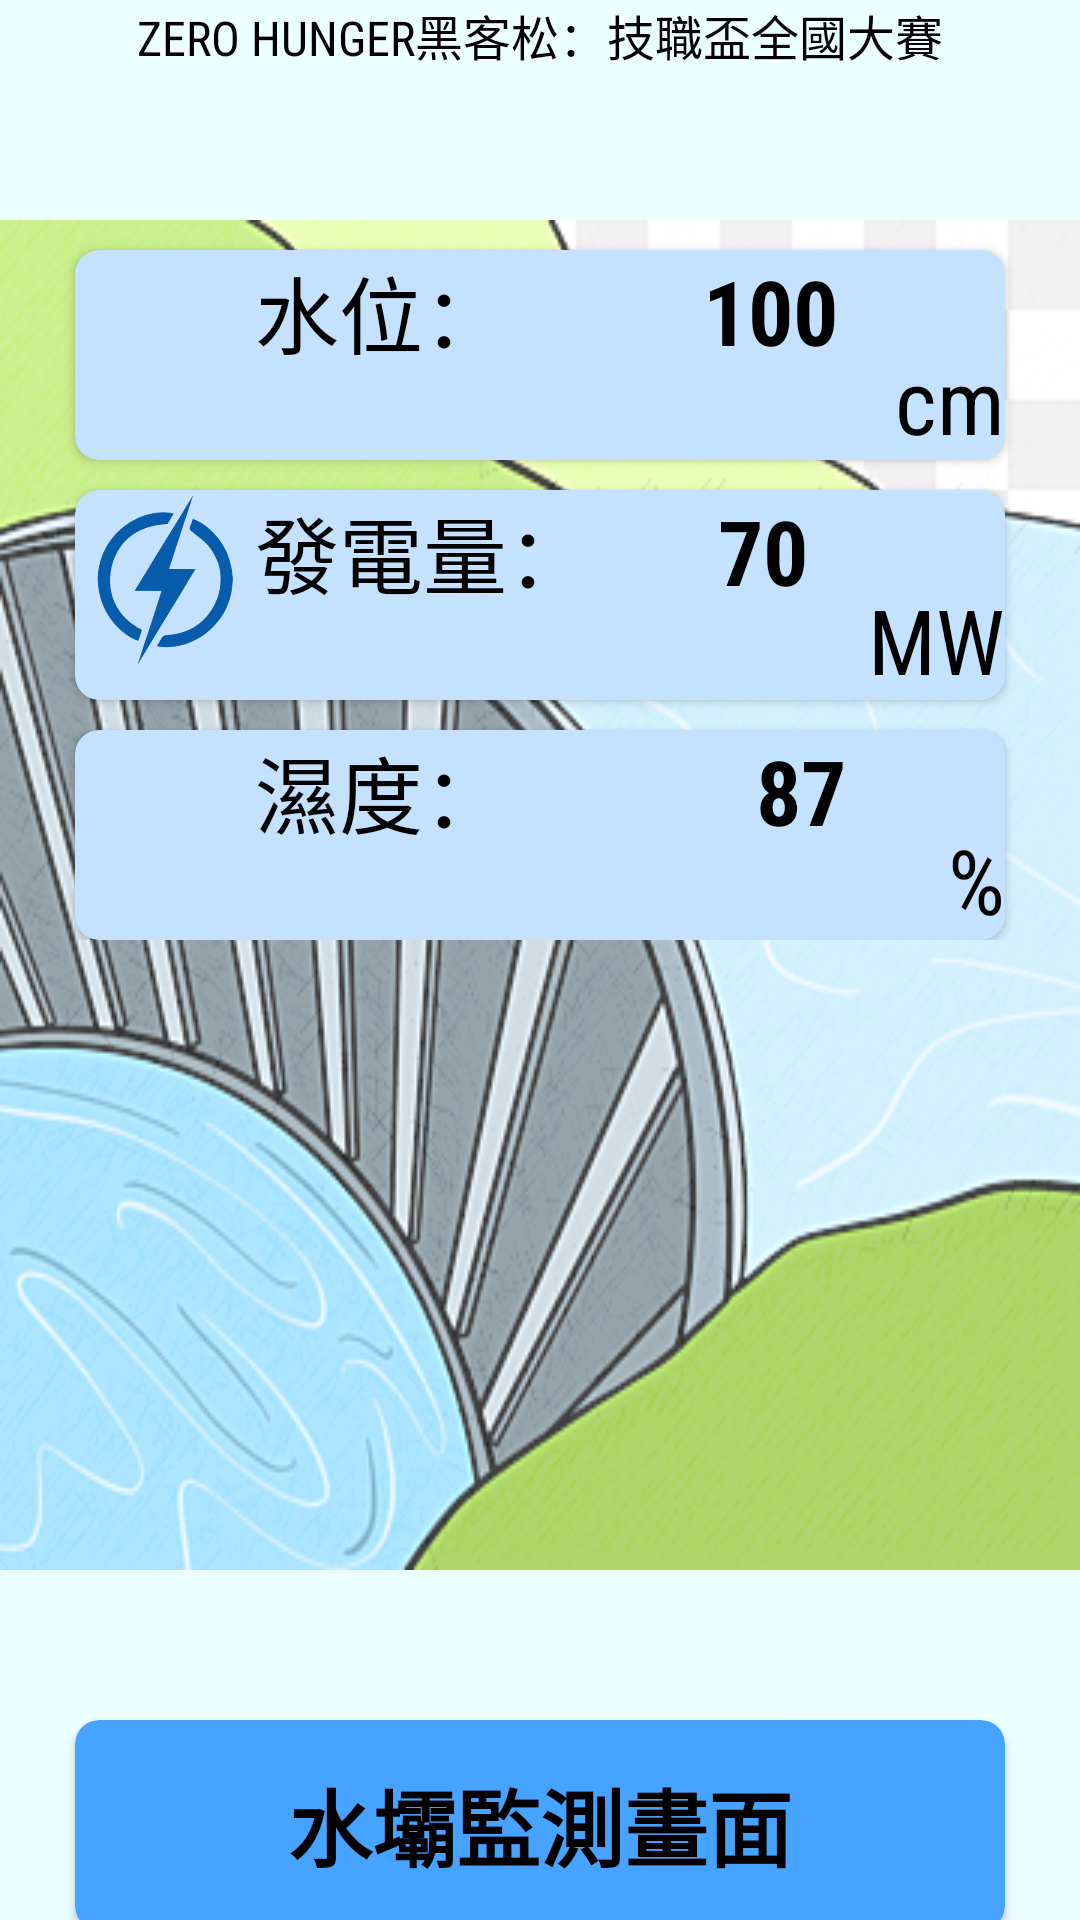

Icons on this 1080px×1920px Android screen, each with its box as (x1, y1, x2, y2):
power: (97, 496, 233, 664)
